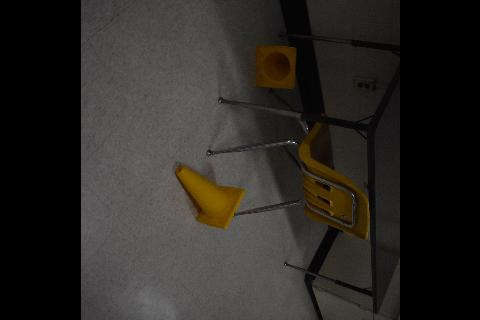cone: (173, 164, 245, 230), (253, 44, 297, 90)
